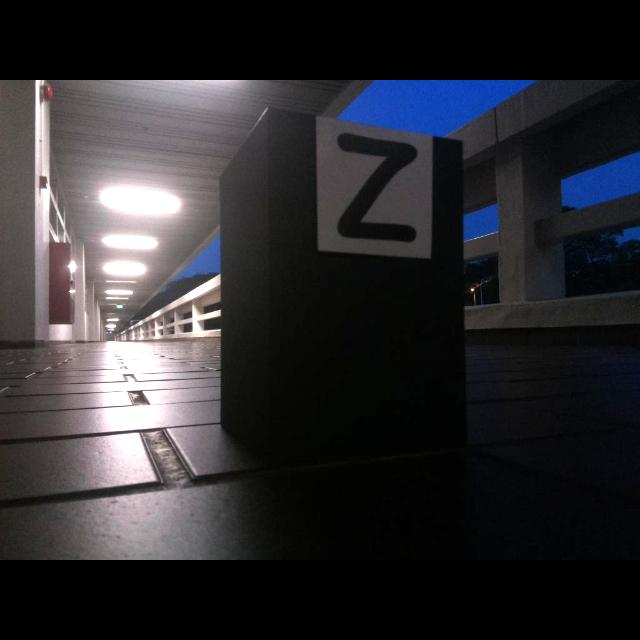Z: (337, 134, 418, 242)
